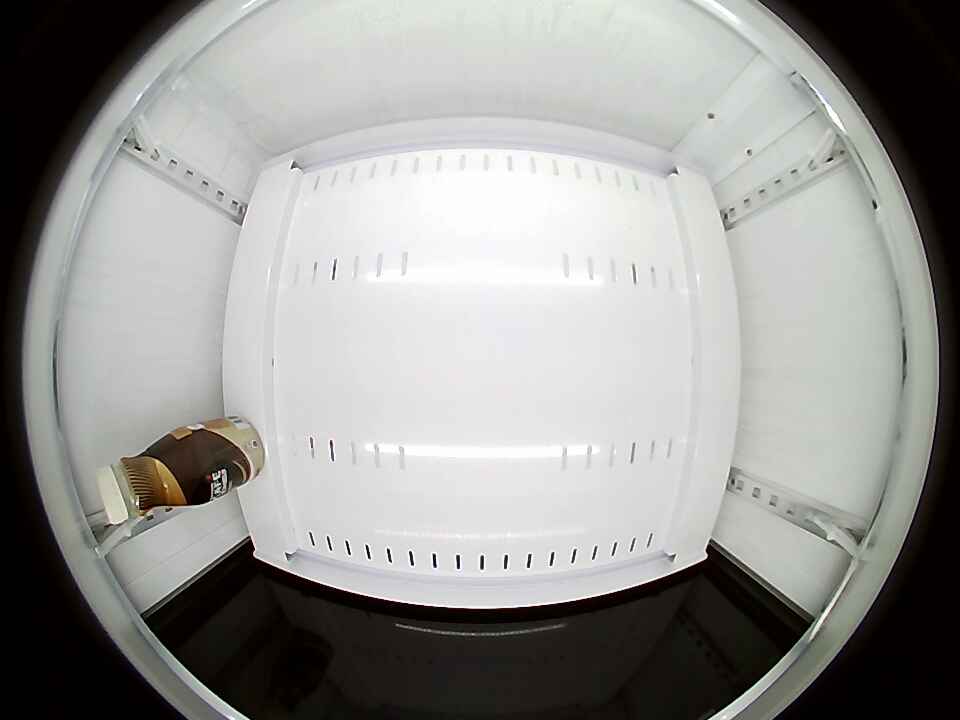kafei: (96, 433, 206, 523)
